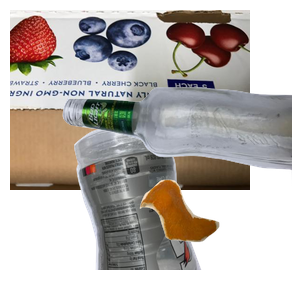cardboard: (10, 10, 250, 190)
glass: (60, 84, 300, 260)
plastic: (71, 120, 265, 300)
trash: (137, 177, 300, 300)
